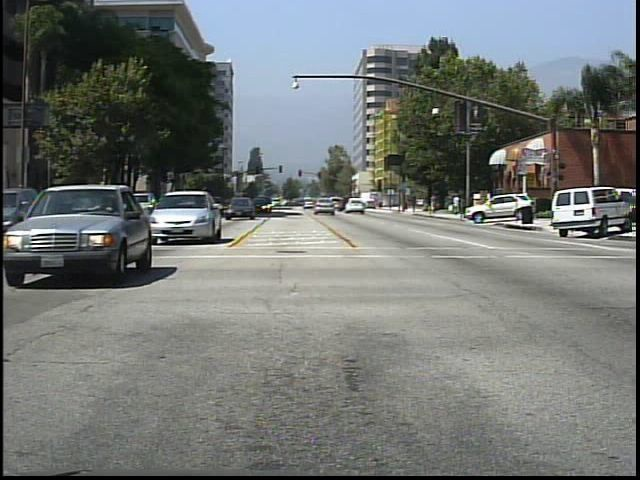person: (452, 191, 464, 219), (428, 192, 441, 215)
